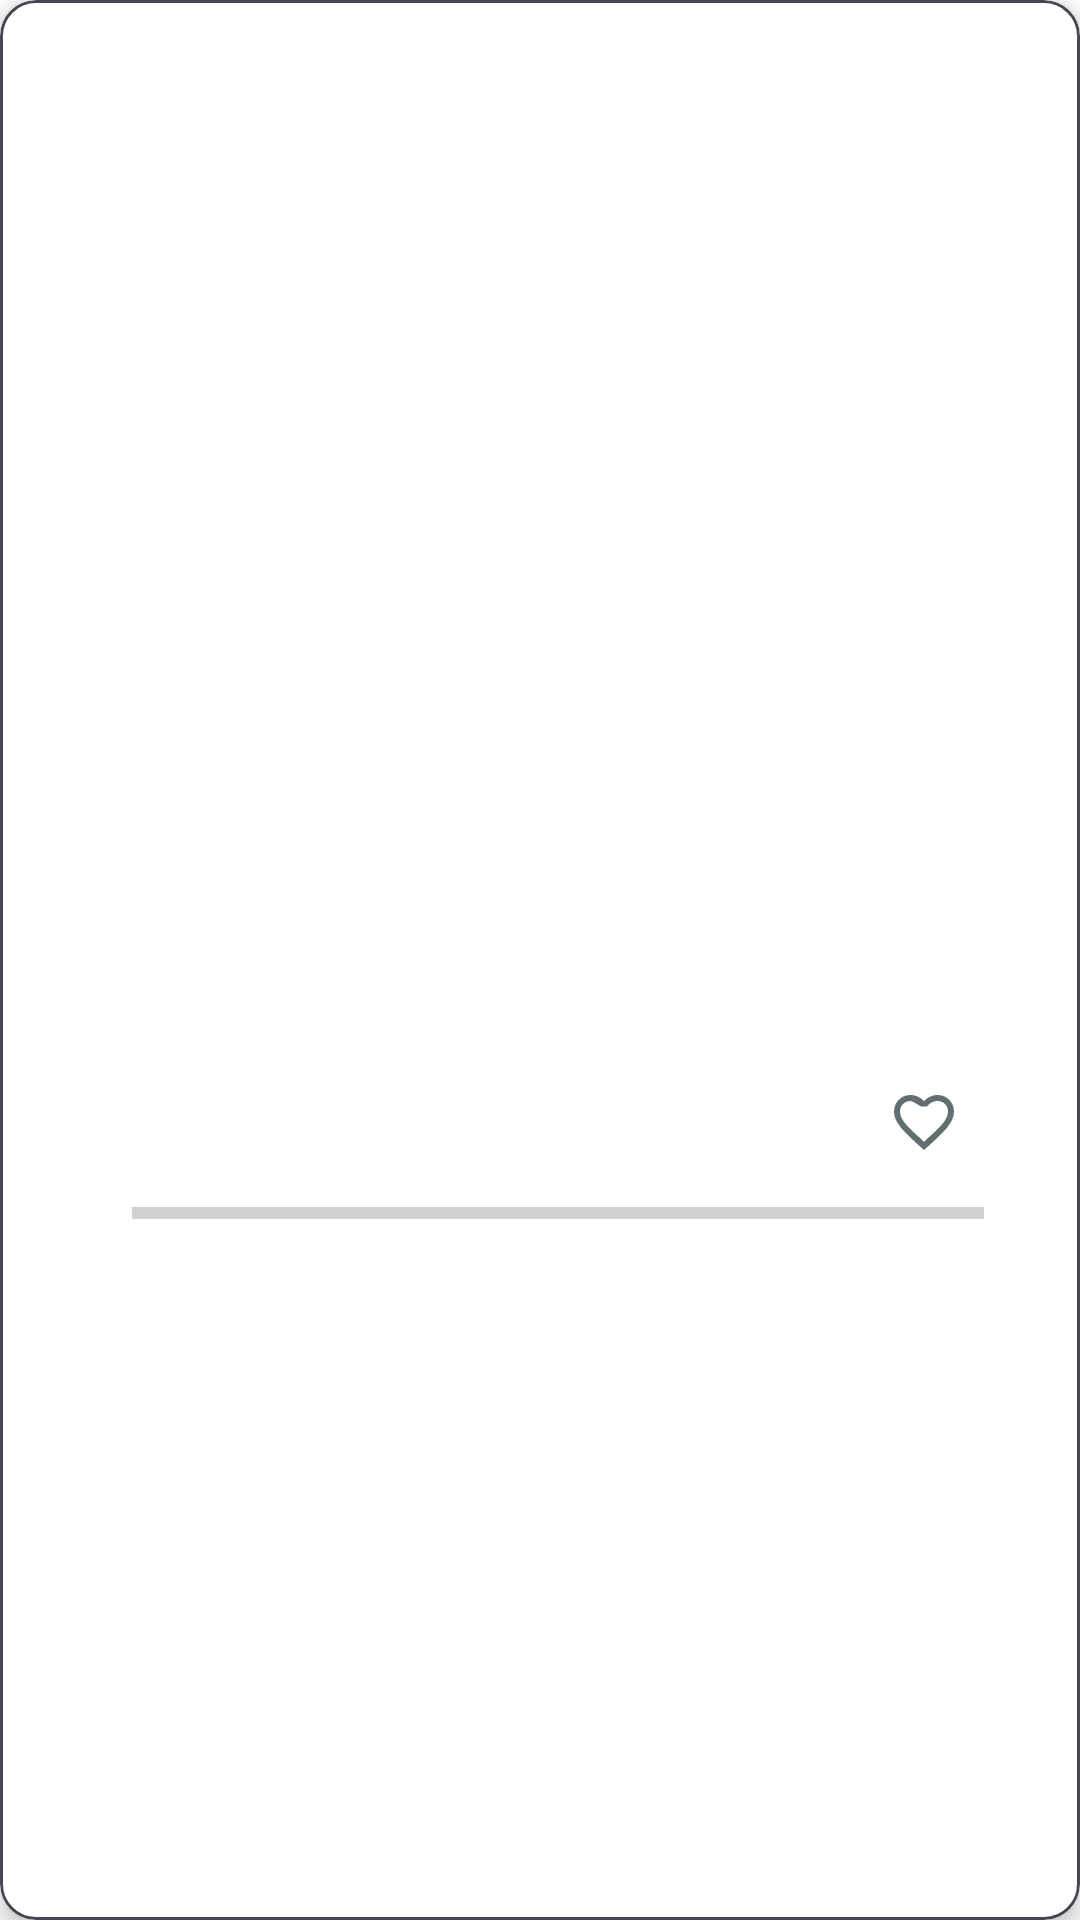

Icons on this 1080 × 1920 Android screen, each with its box as (x1, y1, x2, y2):
Marcar como favorito: (894, 1095, 954, 1150)
